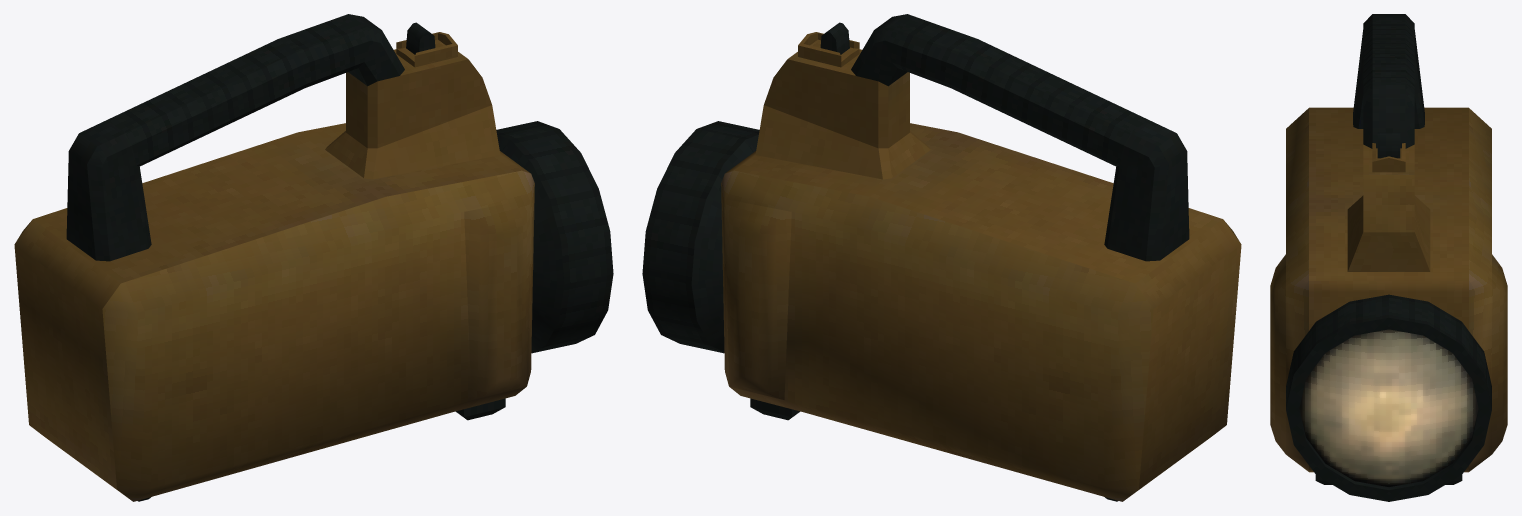
The model's file is flashlight_1.glb.
3 views of the same model, side by side, from view 1: azimuth 30°, elevation 25°; view 2: azimuth 150°, elevation 25°; view 3: azimuth 270°, elevation 25° (orthographic). The views are drawn at different scales.
Visible parts, largest first — view 1: flashlight_1; view 2: flashlight_1; view 3: flashlight_1.
Boxes of the visible parts, box(x1,y1,x2,y2) form: flashlight_1: box(14, 14, 613, 501); flashlight_1: box(642, 14, 1241, 501); flashlight_1: box(1270, 14, 1507, 501).
Bounding box in the file's own units: 0.3801 × 0.2745 × 0.1656.
Materials: 1 (1 with a texture image).
